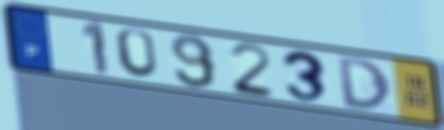0: (112, 27, 159, 80)
1: (79, 20, 112, 77)
2: (227, 41, 276, 100)
3: (280, 48, 336, 106)
9: (169, 32, 219, 91)
D: (334, 54, 394, 112)
